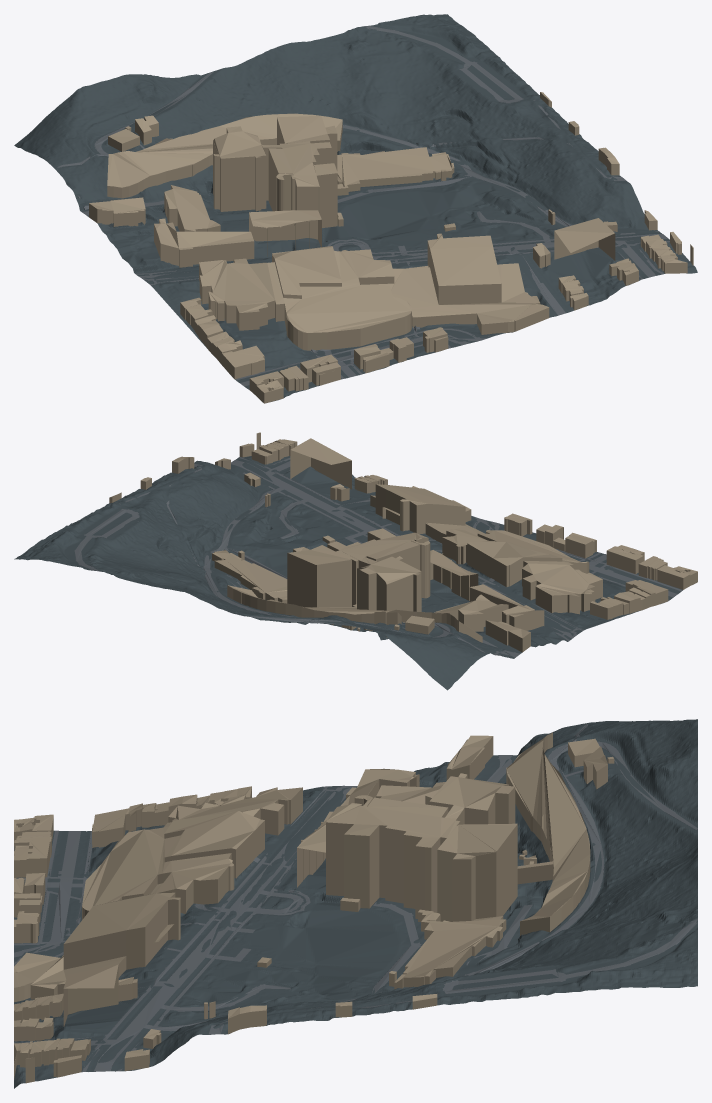
The model's file is epsg26910-1426-10884.lod0.glb.
3 views of the same model, one above another, from view 1: azimuth 30°, elevation 25°; view 2: azimuth 150°, elevation 25°; view 3: azimuth 270°, elevation 25° (orthographic). The views are drawn at different scales.
Parts seen in each view (by area): view 1: epsg26910-1426-10884-lod0; view 2: epsg26910-1426-10884-lod0; view 3: epsg26910-1426-10884-lod0.
Part boxes in pixels (x1,y1,x2,y2): epsg26910-1426-10884-lod0: (14,14,697,403); epsg26910-1426-10884-lod0: (14,432,697,690); epsg26910-1426-10884-lod0: (14,719,697,1088).
Bounding box in the file's own units: 384 × 100 × 384.
